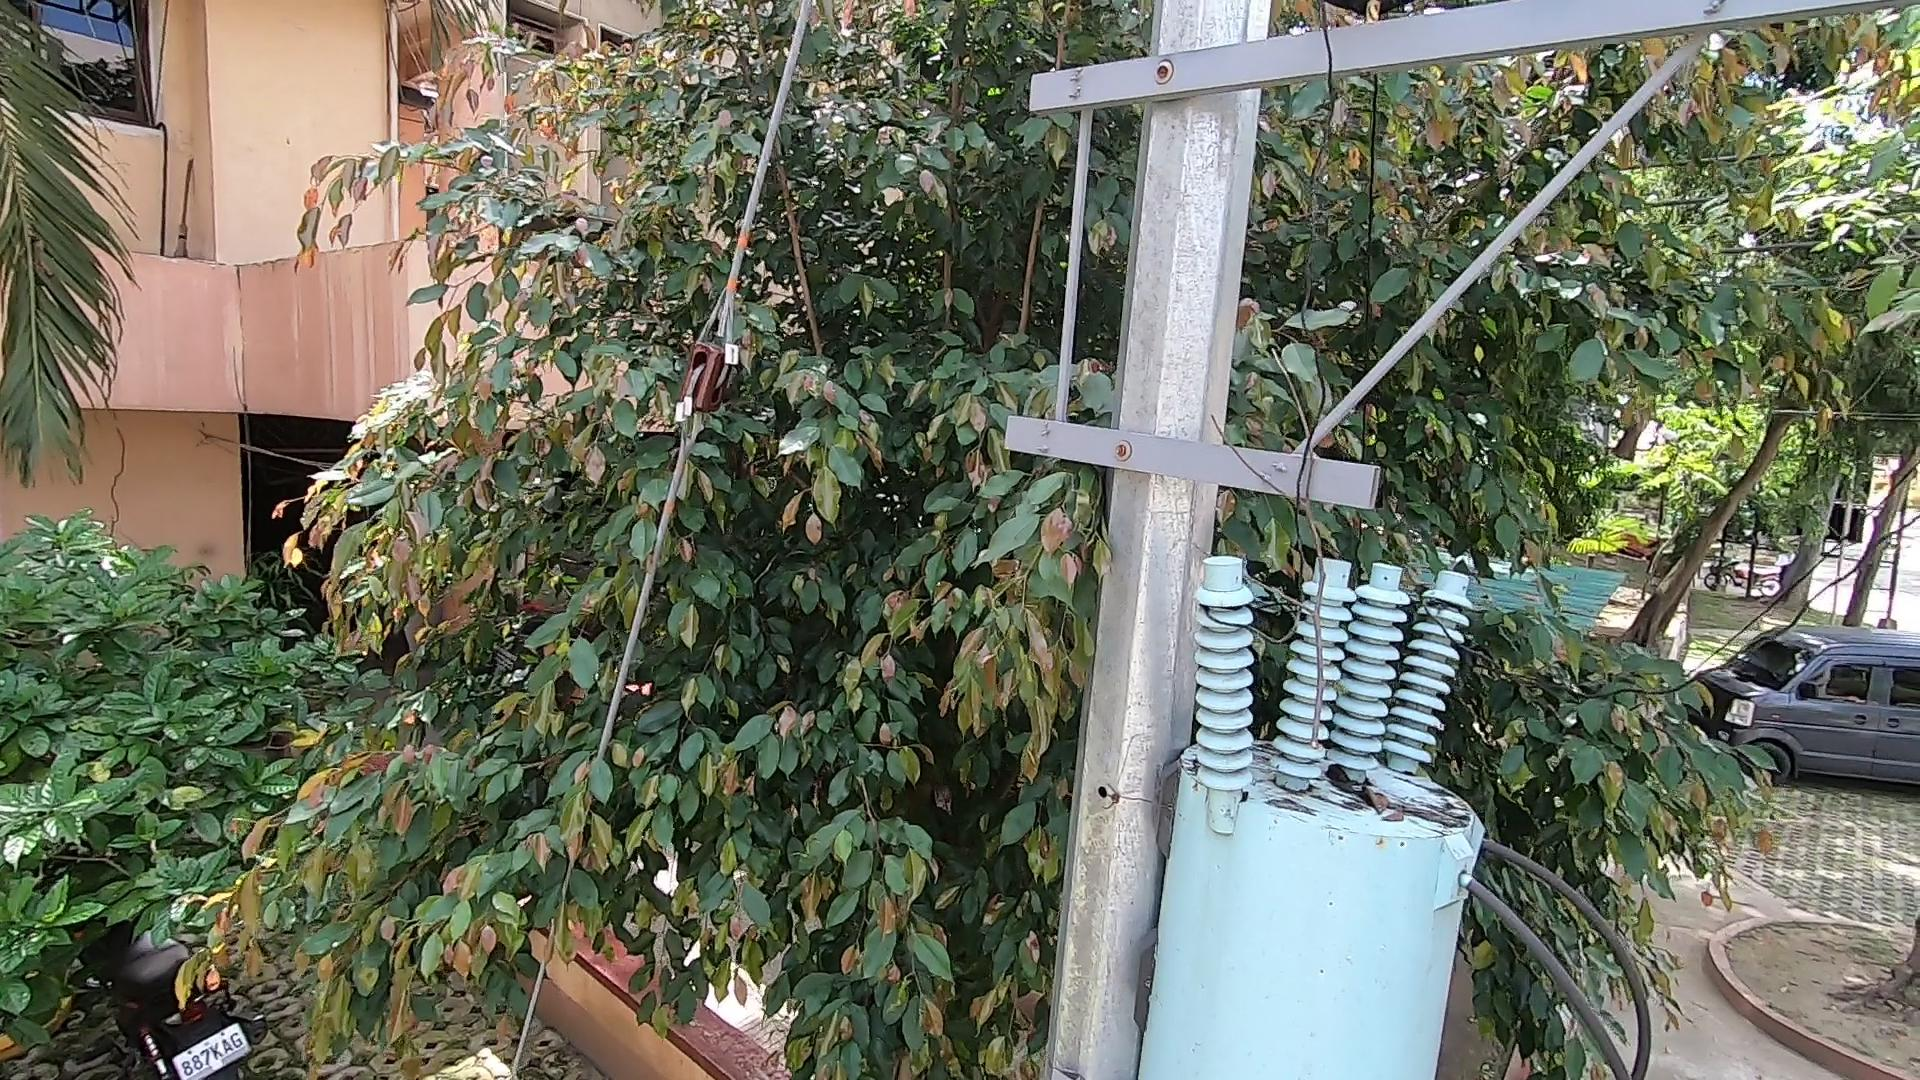leaf: (1324, 757, 1410, 822)
tree branch: (1222, 348, 1364, 748)
